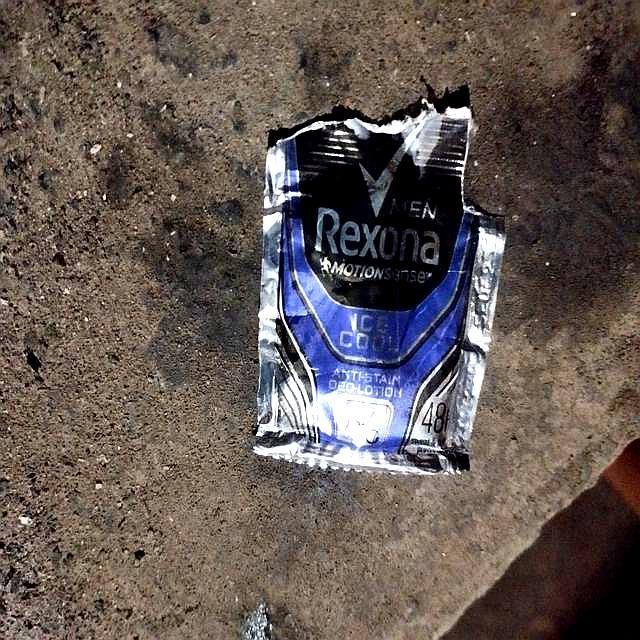Non-biodegradable: (251, 87, 508, 479)
